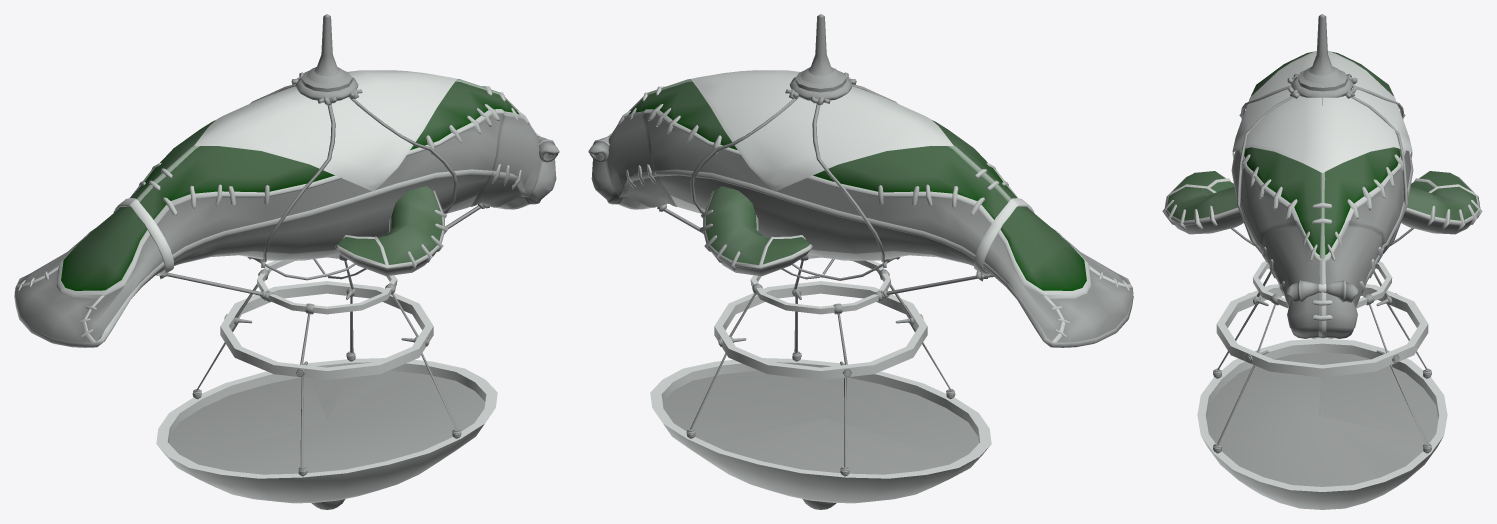
3 renders of one model, left to right at view 1: azimuth 30°, elevation 25°; view 2: azimuth 150°, elevation 25°; view 3: azimuth 270°, elevation 25°, orthographic.
Visible parts, largest first — view 1: G:\FFXIV-MapTools\exports\y6f2\bg\ex5\02_ykt_y6\fld\y6f2\bgp (×7); view 2: G:\FFXIV-MapTools\exports\y6f2\bg\ex5\02_ykt_y6\fld\y6f2\bgp (×7); view 3: G:\FFXIV-MapTools\exports\y6f2\bg\ex5\02_ykt_y6\fld\y6f2\bgp (×6).
Boxes of the visible parts, box(x1,y1,x2,y2) form: G:\FFXIV-MapTools\exports\y6f2\bg\ex5\02_ykt_y6\fld\y6f2\bgp (×7): box(14, 14, 559, 509); G:\FFXIV-MapTools\exports\y6f2\bg\ex5\02_ykt_y6\fld\y6f2\bgp (×7): box(588, 14, 1133, 509); G:\FFXIV-MapTools\exports\y6f2\bg\ex5\02_ykt_y6\fld\y6f2\bgp (×6): box(1162, 14, 1482, 509).
Size of the model in its own units: 9.54 by 8.61 by 5.12.
